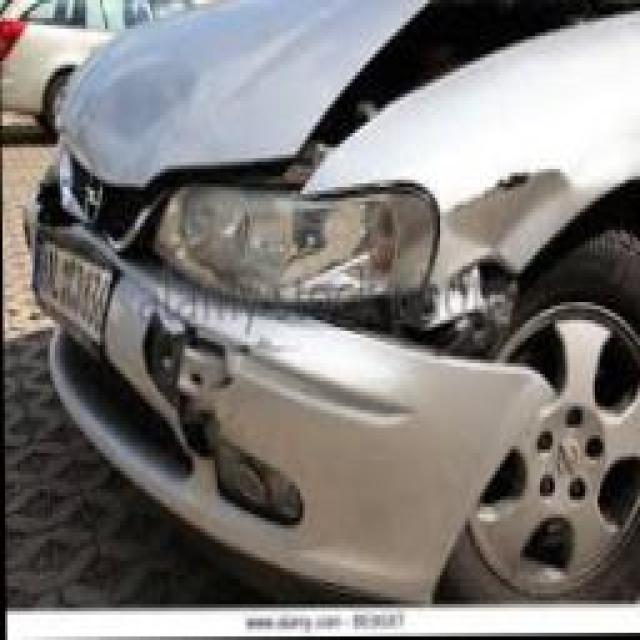Bonnet: (62, 0, 640, 184)
Bumper: (124, 296, 555, 617), (16, 148, 173, 535)
Fender: (320, 8, 640, 284)
